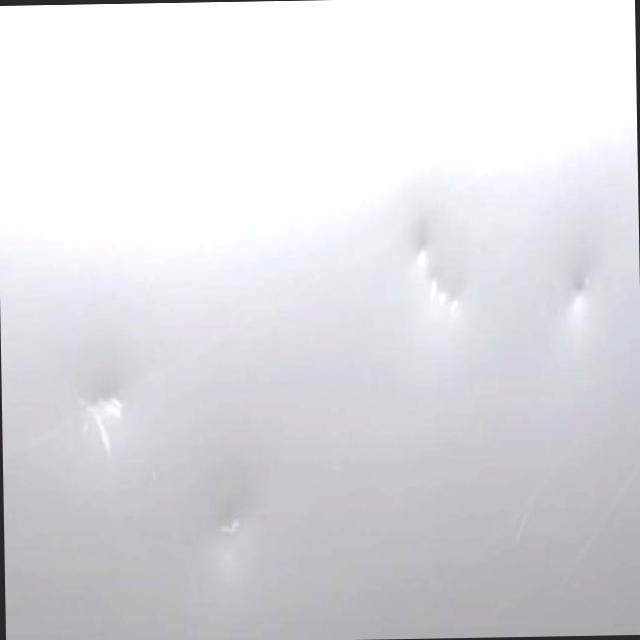dent: (412, 206, 501, 345), (64, 343, 148, 465), (569, 256, 597, 326), (207, 506, 252, 544)
